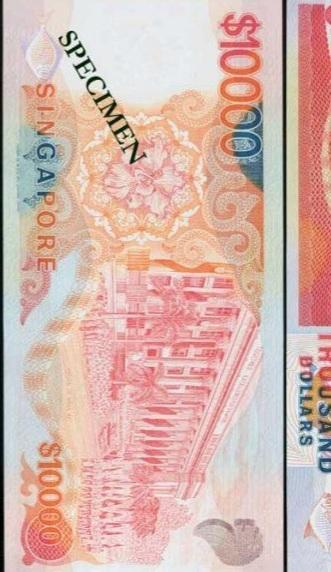10000SingaporeDollar: (6, 0, 281, 571)
